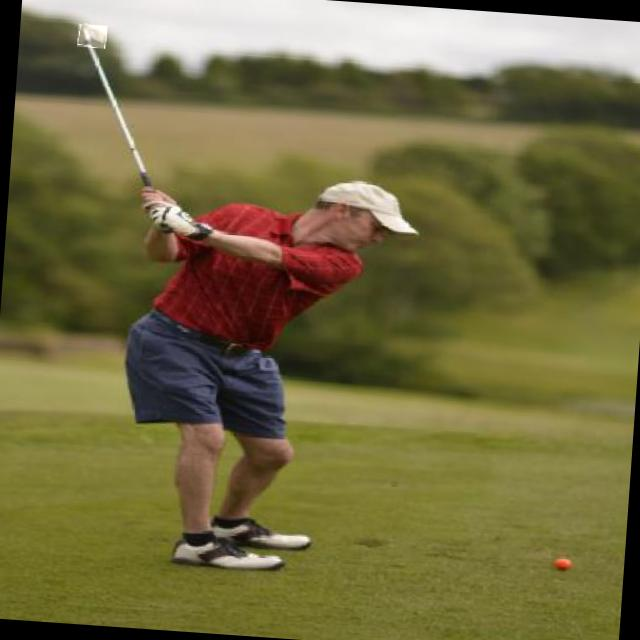club head: (77, 24, 107, 48)
